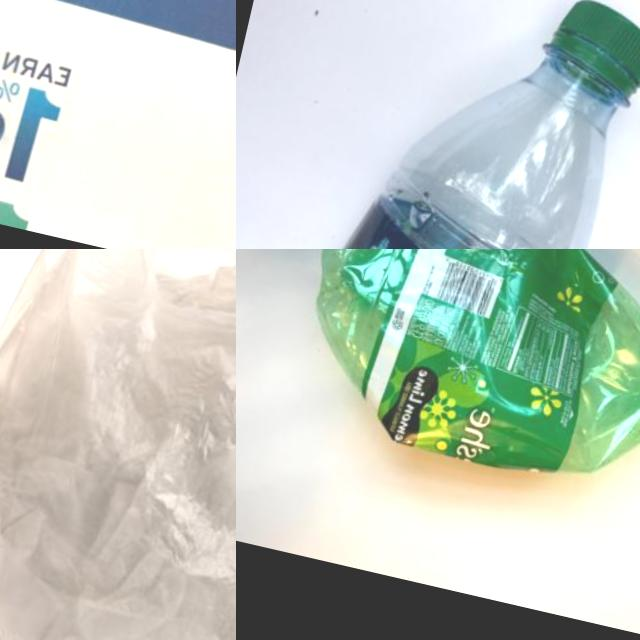garrafa plástica: (279, 249, 640, 514), (265, 4, 632, 249)
papel: (0, 0, 236, 249)
sacola plástica: (0, 249, 236, 640)
tampa plástica: (535, 0, 640, 108)
